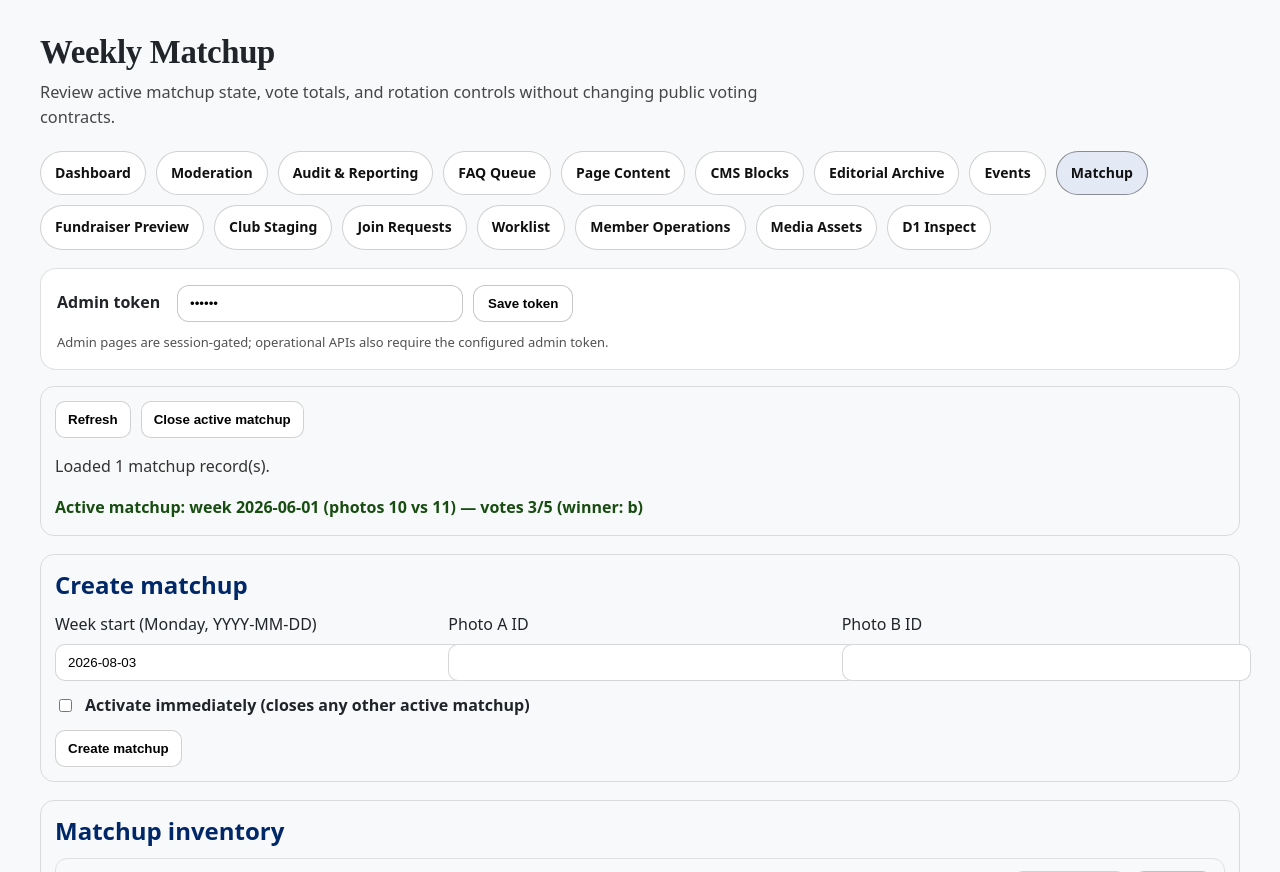
it: admin matchup page › clears matchup state when the admin token is removed
Check: the text "Active matchup: week 2026-06-01" is shown, box x1=55 y1=496 x2=643 y2=518
Clear the password field labelled "Admin token": (320, 303) x1=177 y1=285 x2=463 y2=322
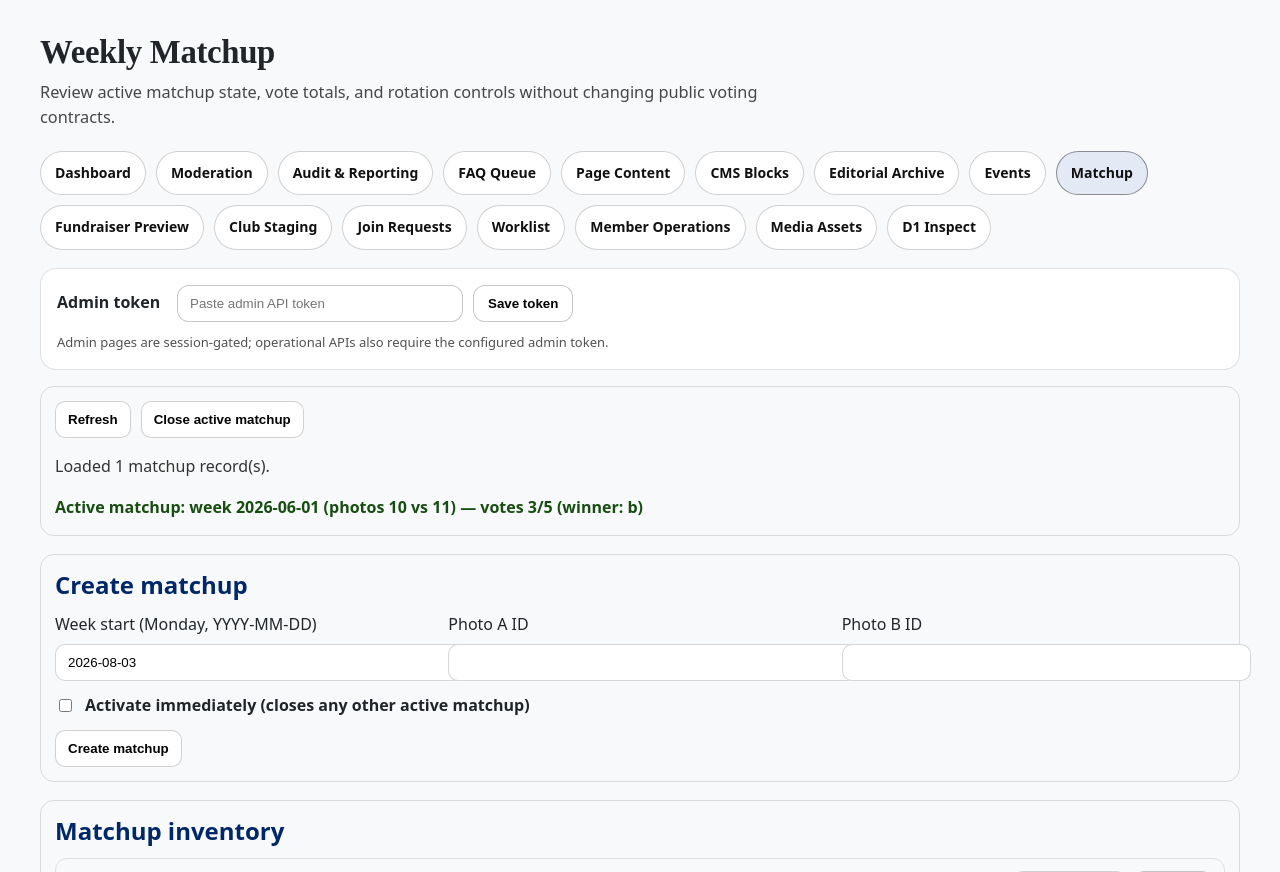
Click the button "Save token": (523, 303) x1=473 y1=285 x2=573 y2=322
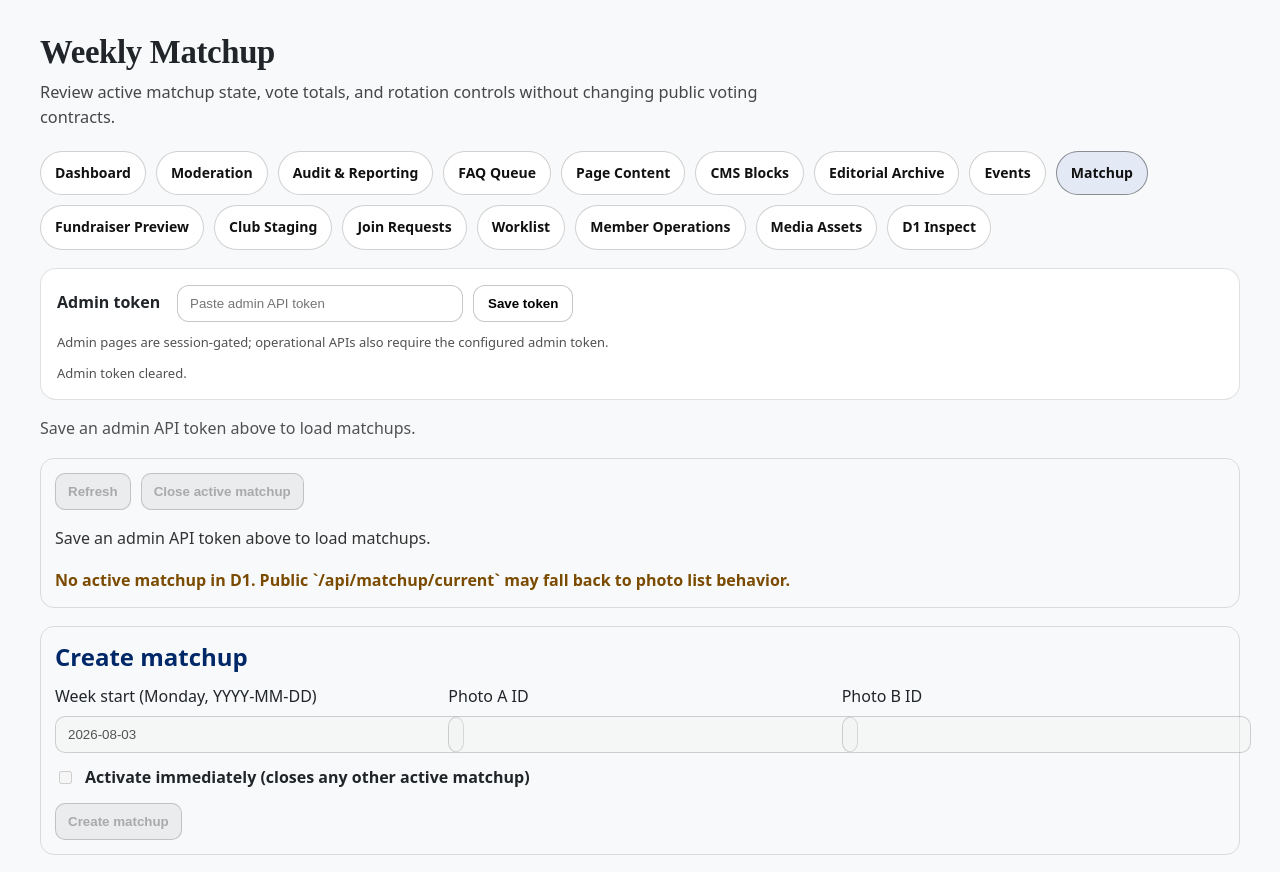
Check: the text "Active matchup: week 2026-06-01" is gone
Check: the 1st text "Save an admin API token above to load matchups." is shown, box x1=40 y1=417 x2=416 y2=439
